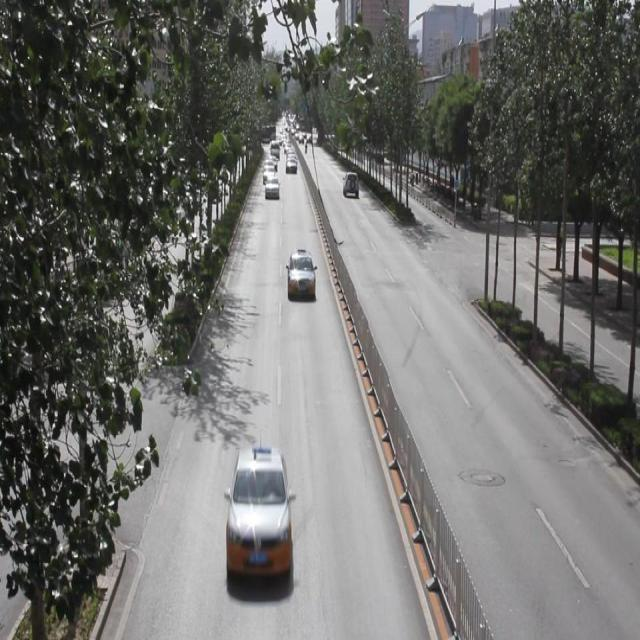car: (224, 444, 290, 575), (287, 251, 314, 299), (342, 172, 358, 199)
